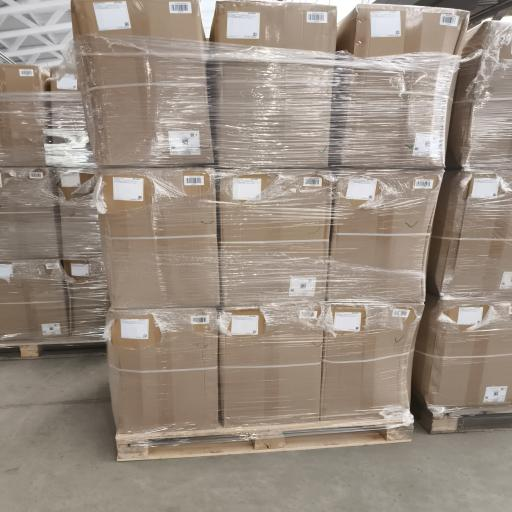pallet: (116, 422, 413, 461), (412, 400, 511, 434), (0, 337, 106, 360)
